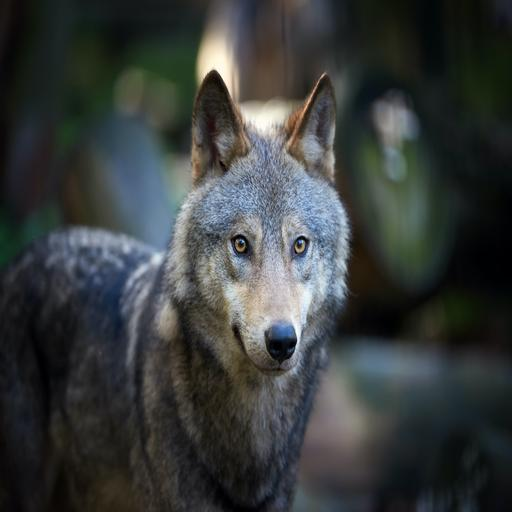Wolf: (0, 68, 358, 512)
